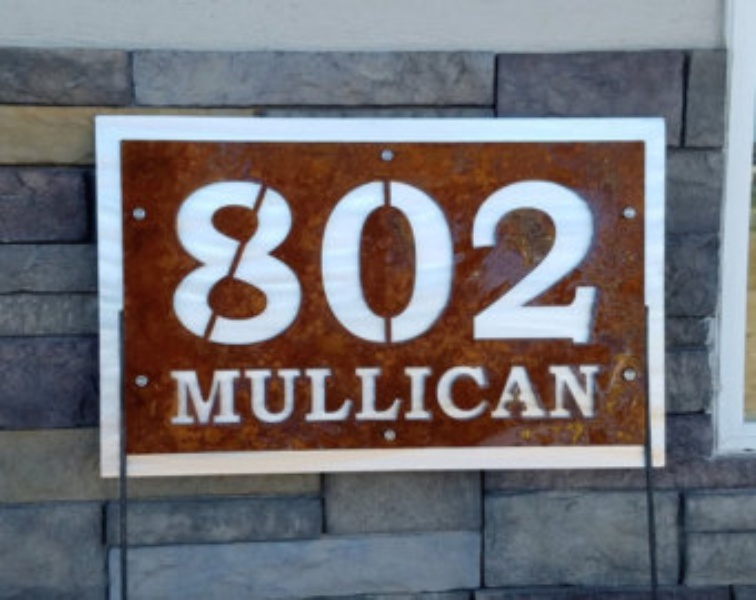text: (177, 181, 192, 347), (193, 181, 208, 347), (209, 181, 224, 347), (225, 181, 240, 347), (241, 181, 256, 347), (257, 181, 272, 347), (273, 181, 288, 347), (289, 181, 304, 347), (305, 181, 320, 347), (321, 181, 336, 347), (337, 181, 352, 347), (353, 181, 368, 347), (369, 181, 384, 347), (385, 181, 400, 347), (401, 181, 416, 347), (417, 181, 432, 347), (433, 181, 448, 347), (449, 181, 464, 347), (465, 181, 480, 347), (481, 181, 496, 347), (497, 181, 512, 347), (513, 181, 528, 347), (529, 181, 544, 347), (545, 181, 560, 347), (561, 181, 576, 347), (577, 181, 592, 347), (593, 181, 601, 347), (169, 181, 176, 347), (177, 363, 192, 423), (193, 363, 208, 423), (209, 363, 224, 423), (225, 363, 240, 423), (241, 363, 256, 423), (257, 363, 272, 423), (273, 363, 288, 423), (289, 363, 304, 423), (305, 363, 320, 423), (321, 363, 336, 423), (337, 363, 352, 423), (353, 363, 368, 423), (369, 363, 384, 423), (385, 363, 400, 423), (401, 363, 416, 423), (417, 363, 432, 423), (433, 363, 448, 423), (449, 363, 464, 423), (465, 363, 480, 423), (481, 363, 496, 423), (497, 363, 512, 423), (513, 363, 528, 423), (529, 363, 544, 423), (545, 363, 560, 423), (561, 363, 576, 423), (577, 363, 592, 423), (593, 363, 603, 423), (169, 363, 176, 423)
